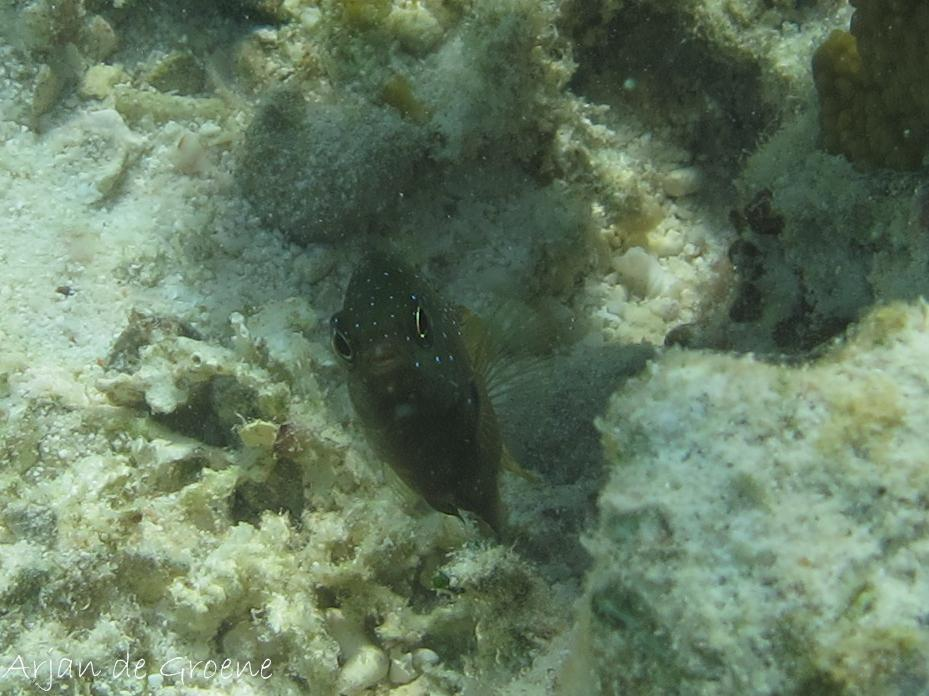Fish: (320, 229, 551, 544)
